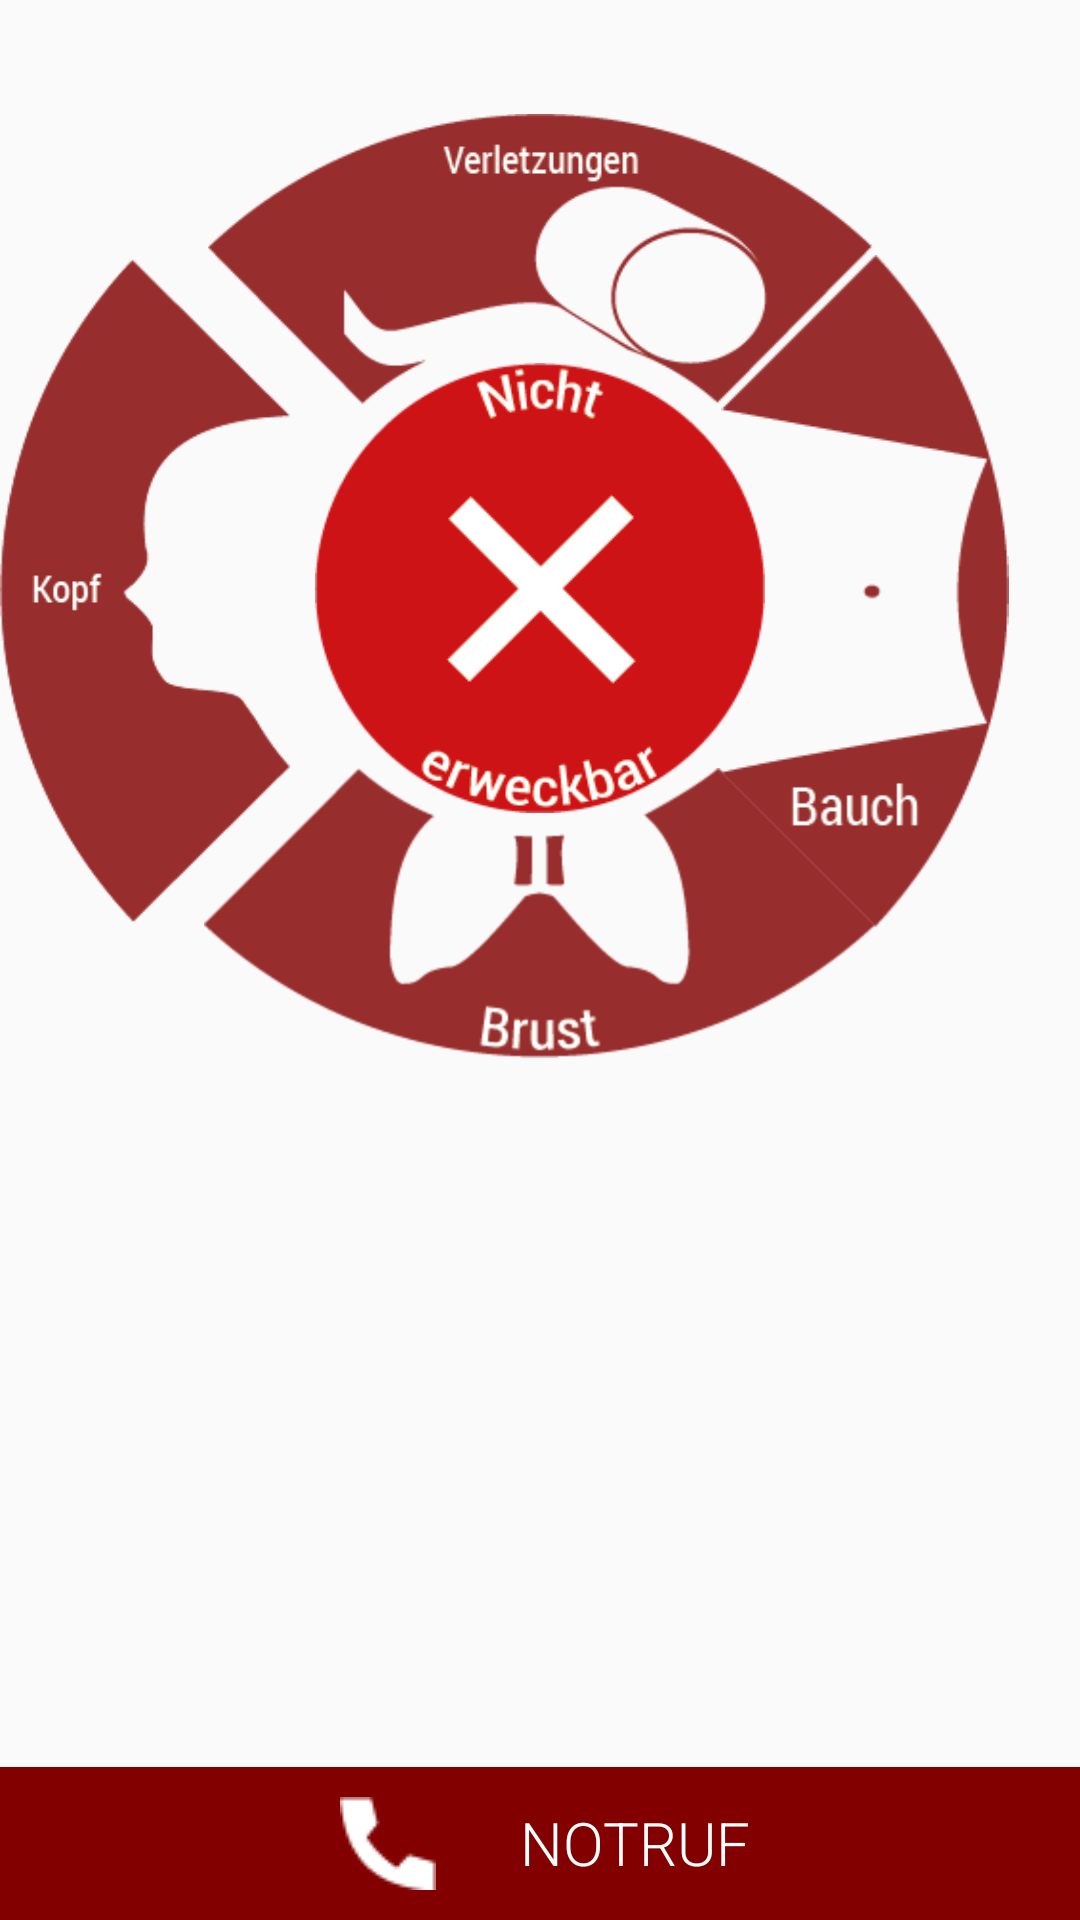

Icon bounding boxes for this 1080*1920 phone screenshot, format (x1, y1, x2, y2):
phone: (340, 1797, 436, 1890)
